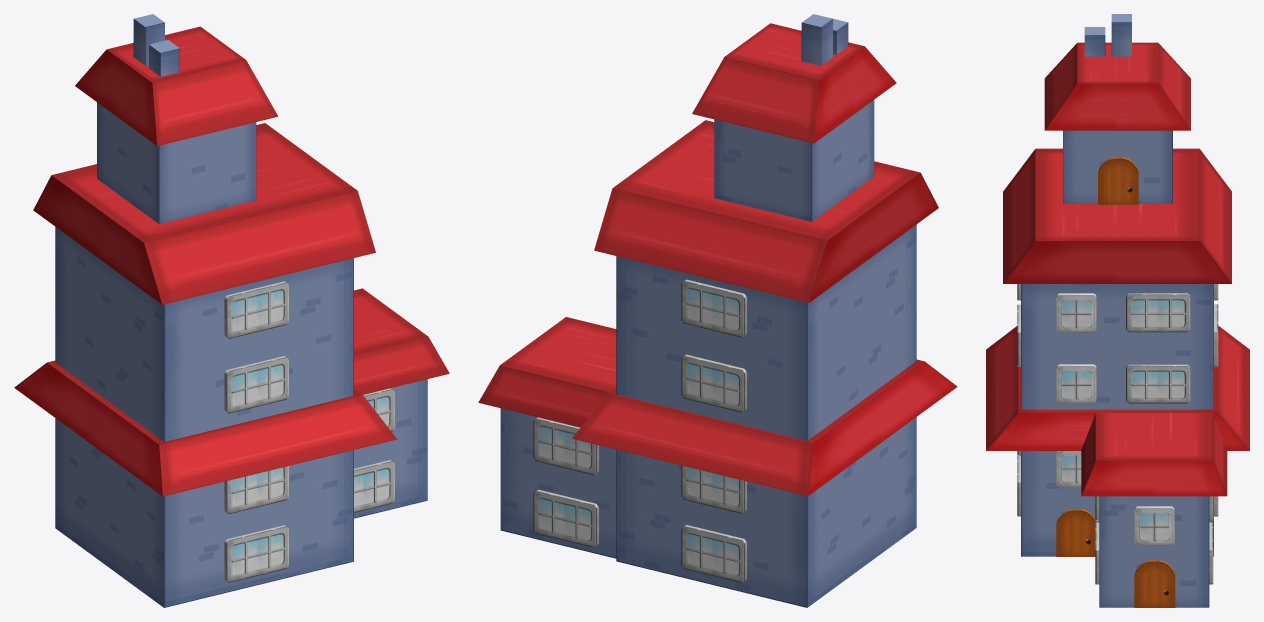
The model's file is House_9.fbx.
3 views of the same model, side by side, from view 1: azimuth 30°, elevation 25°; view 2: azimuth 150°, elevation 25°; view 3: azimuth 270°, elevation 25° (orthographic). The views are drawn at different scales.
Parts seen in each view (by area): view 1: House_9; view 2: House_9; view 3: House_9.
Boxes of the visible parts, x1,y1,x2,y2 form: House_9: (14, 14, 449, 607); House_9: (478, 14, 957, 607); House_9: (986, 14, 1249, 607).
Size of the model in its own units: 12.57 by 18.88 by 9.51.
